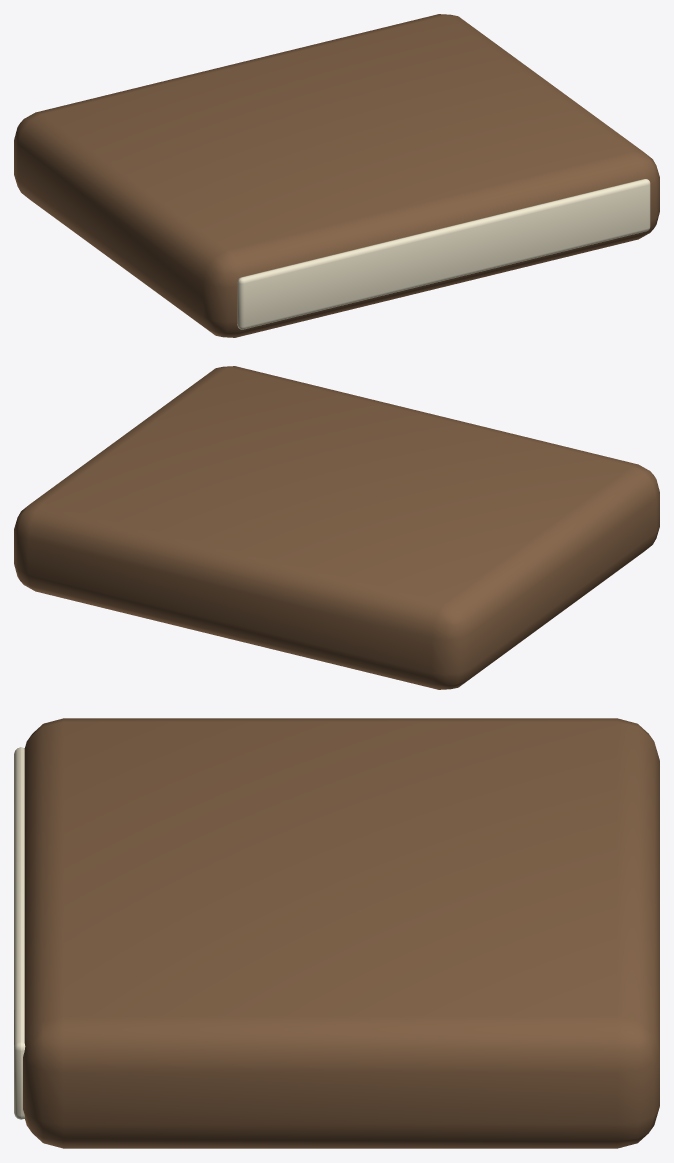
The model's file is wallet.glb.
The picture shows the model from 3 angles, top to bottom: view 1: azimuth 30°, elevation 25°; view 2: azimuth 150°, elevation 25°; view 3: azimuth 270°, elevation 25°; orthographic projection. The views are drawn at different scales.
Visible parts, largest first — view 1: w, stitch; view 2: w; view 3: w, stitch.
Boxes of the visible parts, x1=… form: w: x1=14, y1=14, x2=659, y2=337; stitch: x1=237, y1=179, x2=650, y2=329; w: x1=14, y1=366, x2=659, y2=689; w: x1=23, y1=718, x2=659, y2=1148; stitch: x1=14, y1=747, x2=25, y2=1119.
Size of the model in its own units: 0.11 by 0.02 by 0.091.
